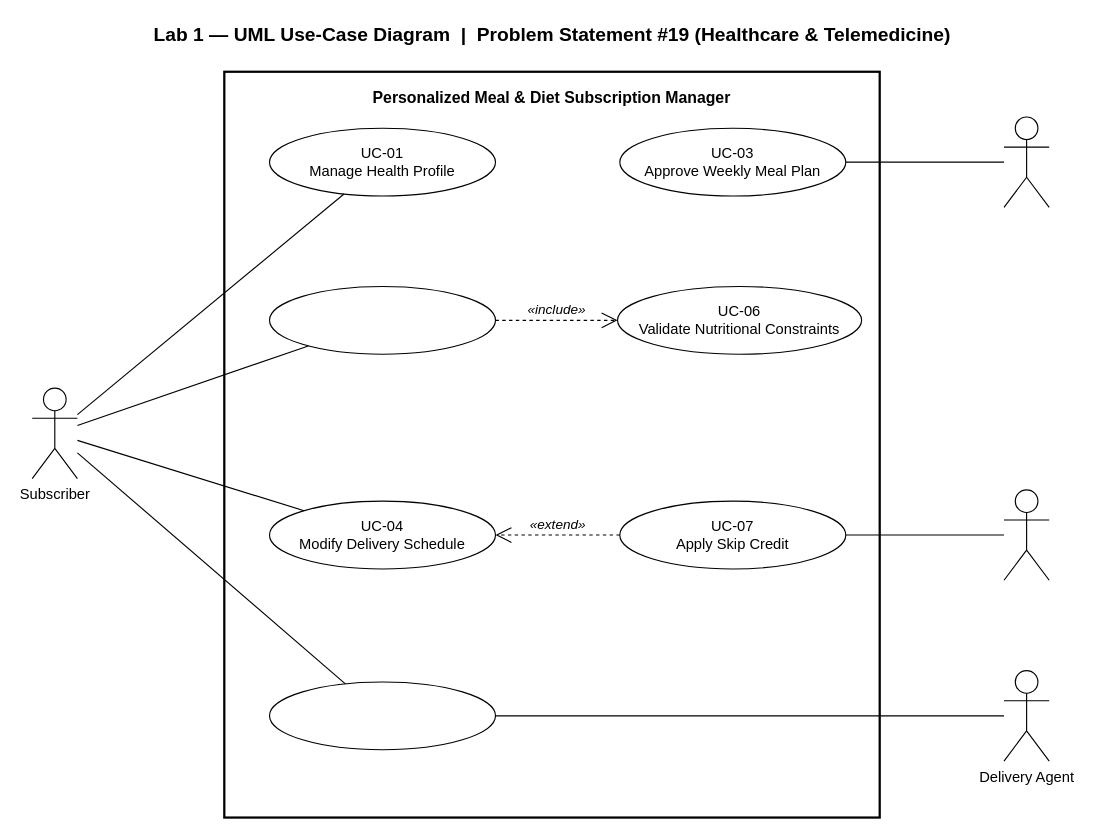
The diagram is 1105 pixels wide and 837 high, and some of its shapes have lost their labels. Here are the shapes that lost their labels. From the top down, the centre of each, then its label:
(x=1026, y=161): Dietitian
(x=382, y=319): UC-02 Generate Weekly Meal Plan
(x=1026, y=534): Payment Gateway «external system»
(x=382, y=715): UC-05 Record Delivery Fulfilment
